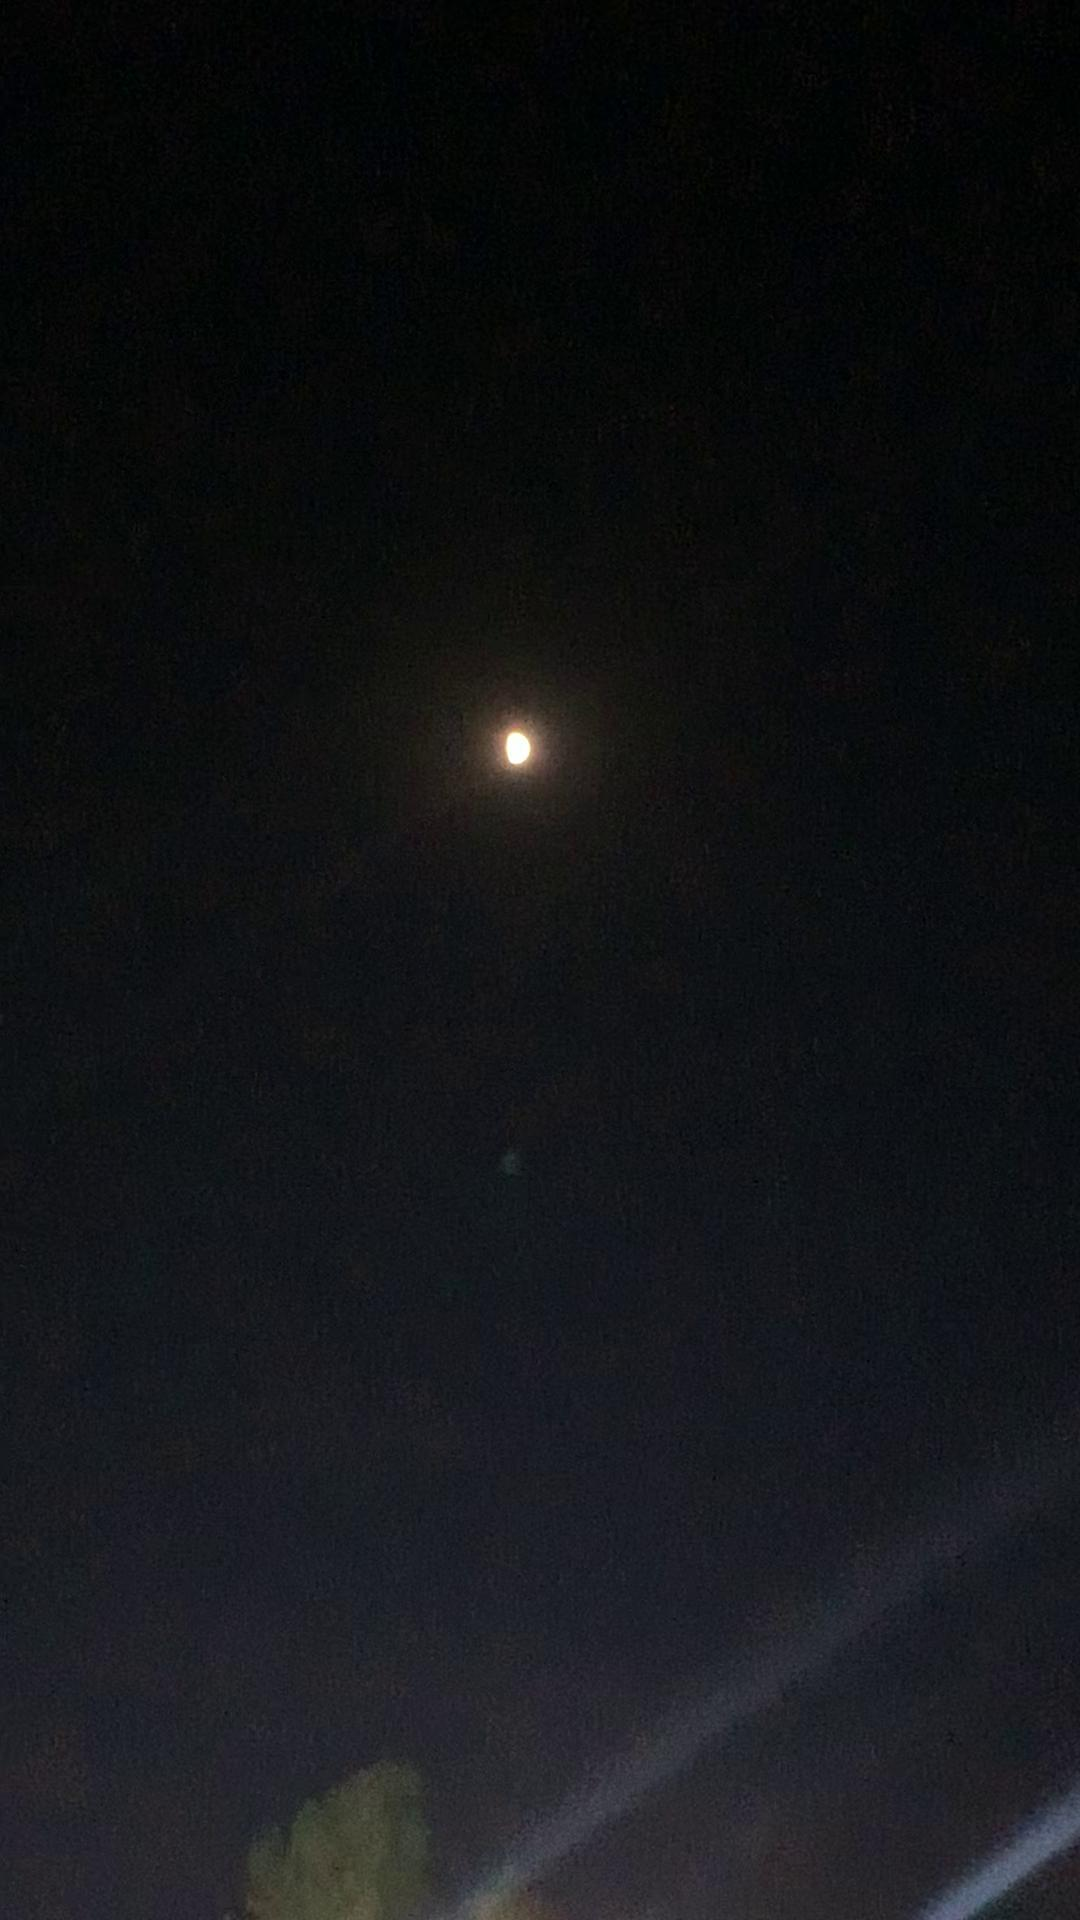moon: (468, 713, 555, 806)
